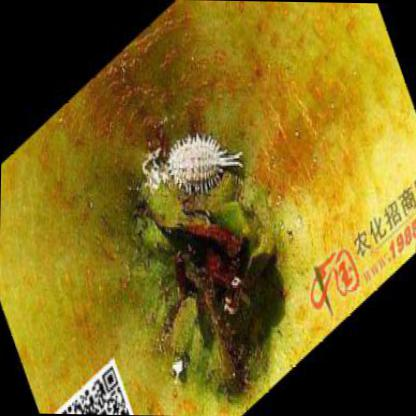mealy bug: (169, 137, 244, 191)
